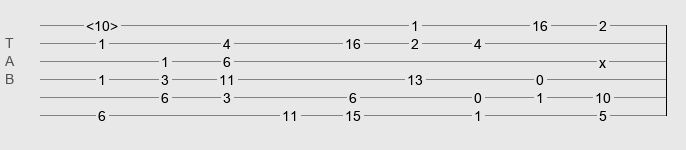0: (474, 90, 482, 100), (536, 72, 544, 82)
1: (98, 72, 106, 82), (98, 36, 106, 46), (161, 54, 169, 64), (411, 18, 419, 28), (474, 108, 482, 118), (536, 90, 544, 100)
10: (595, 90, 611, 100)
11: (219, 72, 235, 82), (282, 108, 298, 118)
13: (407, 72, 423, 82)
15: (345, 108, 361, 118)
16: (345, 36, 361, 46), (532, 18, 548, 28)
2: (411, 36, 419, 46), (599, 18, 607, 28)
3: (161, 72, 169, 82), (223, 90, 231, 100)
4: (223, 36, 231, 46), (474, 36, 482, 46)
5: (599, 108, 607, 118)
6: (98, 108, 106, 118), (161, 90, 169, 100), (223, 54, 231, 64), (349, 90, 357, 100)
harmonic: (86, 18, 118, 28)
x: (599, 55, 606, 63)
